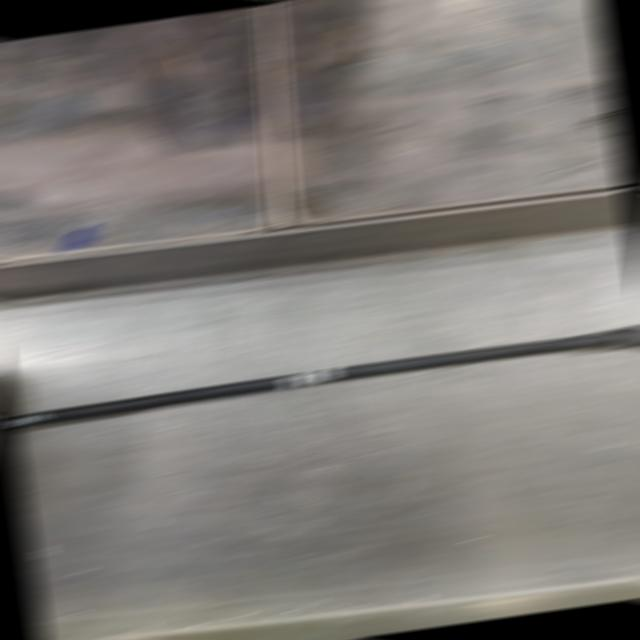white: (283, 370, 338, 388)
